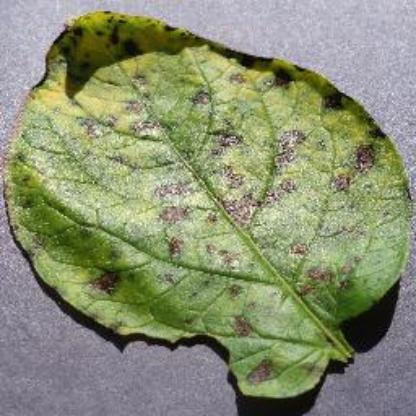Early-Blight: (4, 12, 412, 402)
